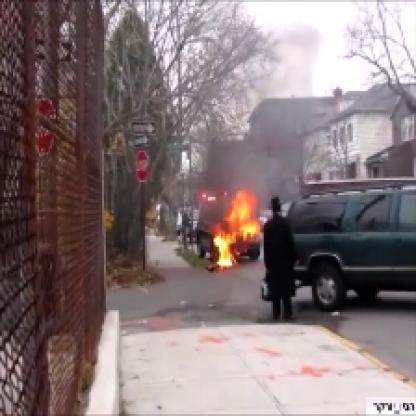Fire: (189, 191, 264, 271)
